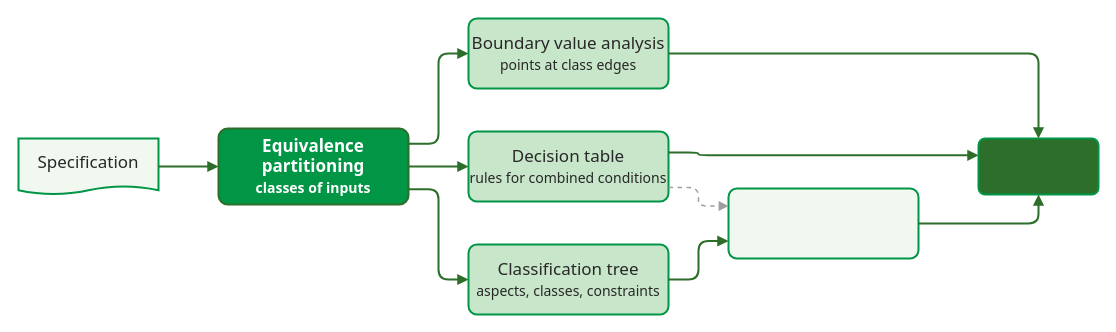
Image size: 1116x332. Some labels were removed from this diagram. Here are the shapes that lost their labels. From the top down, the centre of each, then its label:
[1038,166]: Test cases
[823,223]: Combination strategy each choice, pairwise, all
